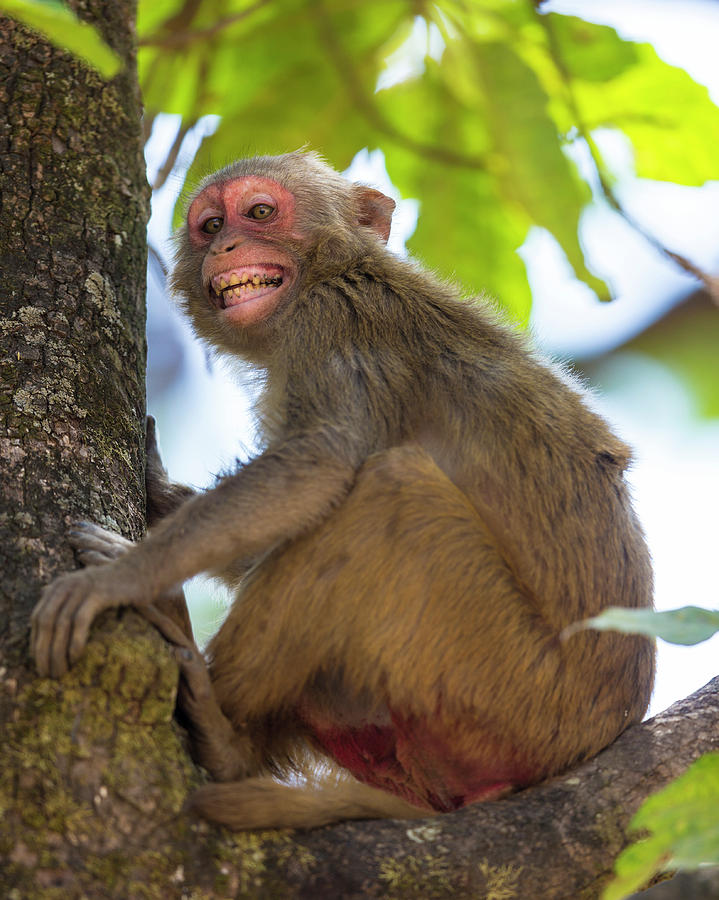monkey: (34, 141, 660, 820)
